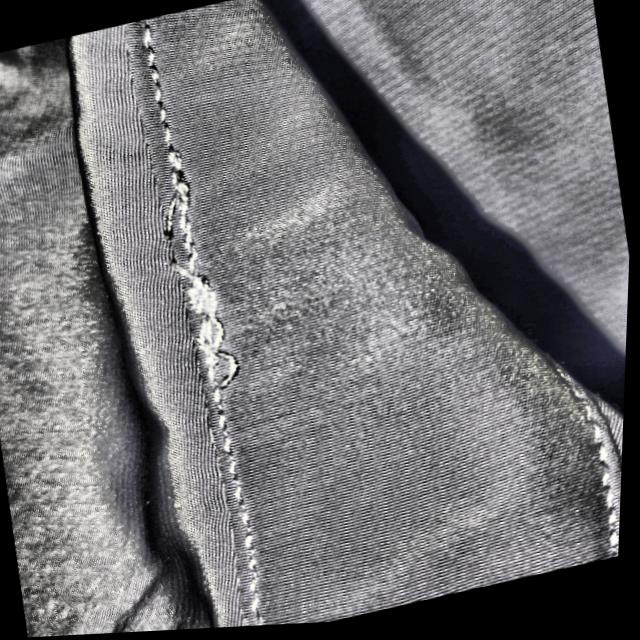Stitch: (108, 135, 295, 432)
